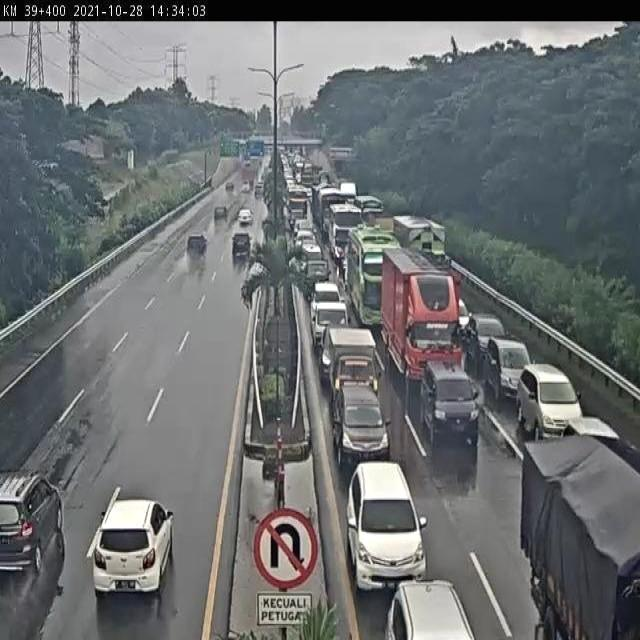Bus: (347, 224, 402, 328), (326, 203, 366, 260), (286, 186, 310, 224)
Car: (346, 459, 428, 591), (89, 494, 175, 596), (0, 474, 66, 573), (383, 578, 481, 639), (332, 382, 391, 471), (516, 361, 582, 438), (479, 335, 532, 405), (464, 313, 506, 378), (232, 231, 252, 258), (187, 233, 208, 255), (238, 208, 253, 226), (214, 206, 228, 221), (241, 181, 251, 193), (226, 181, 234, 191)
Truck: (380, 246, 464, 389), (321, 325, 378, 400), (392, 214, 447, 266), (310, 298, 348, 354), (355, 195, 385, 217)
Van: (420, 360, 481, 450), (639, 91, 640, 92)
